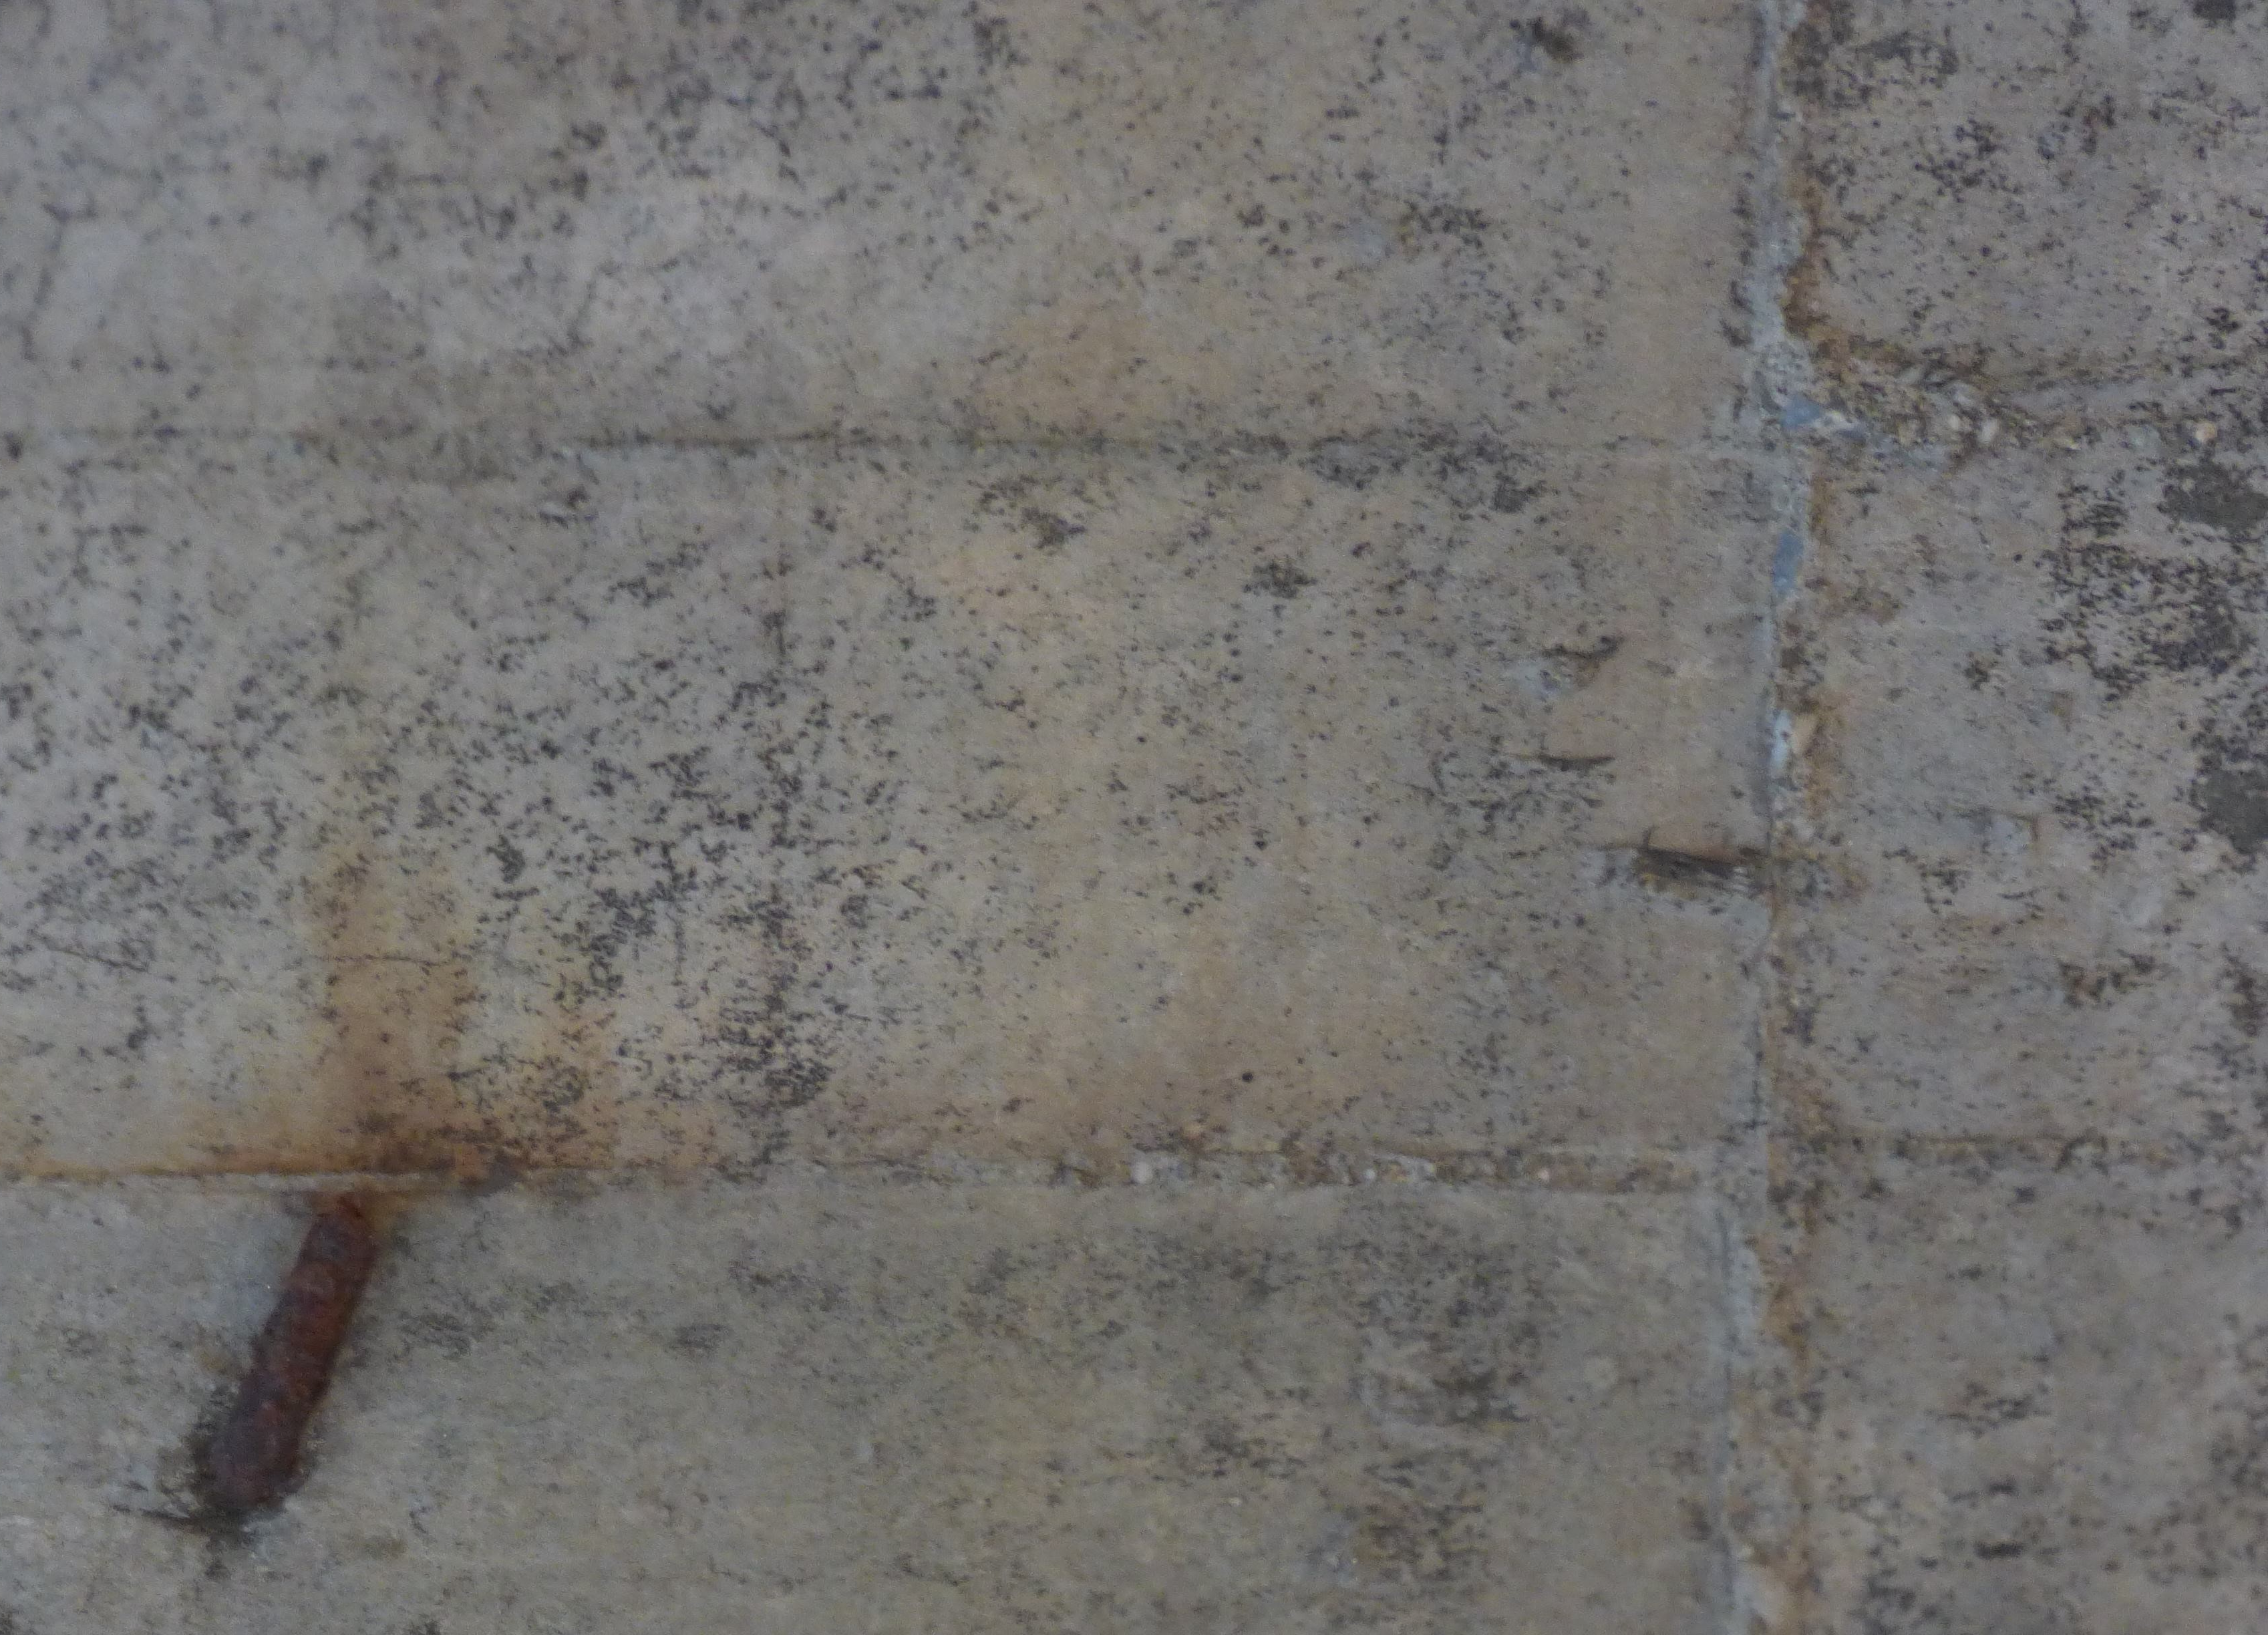Exposed reinforcement: (215, 1209, 375, 1501)
